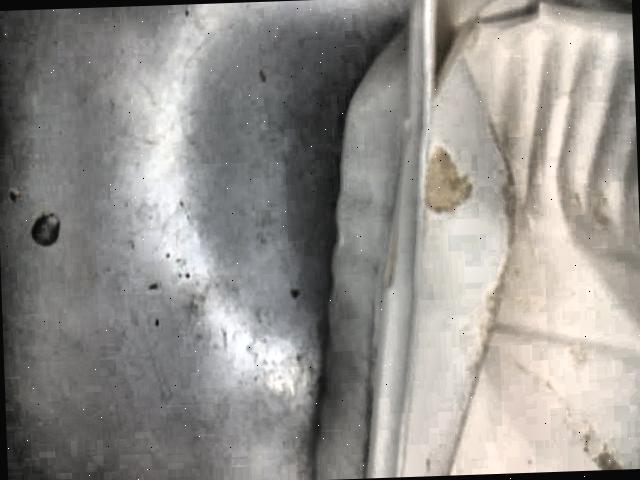Paper: (311, 0, 640, 479)
